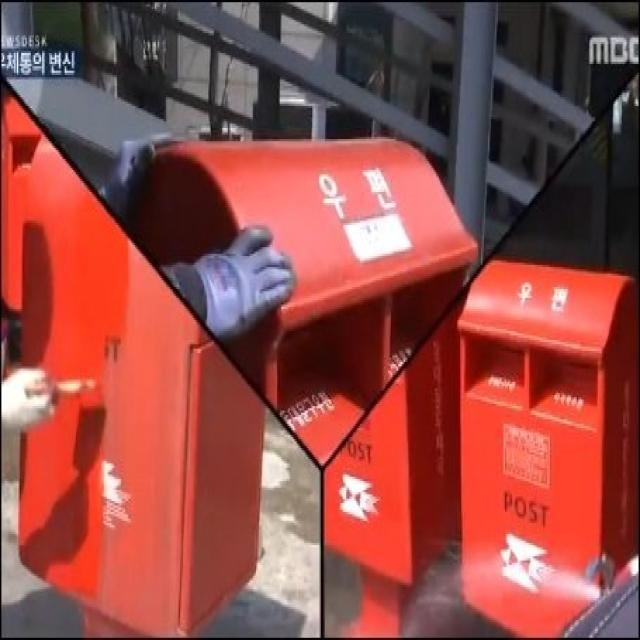Post Box: (24, 121, 266, 640), (126, 135, 477, 470), (459, 252, 640, 640)
